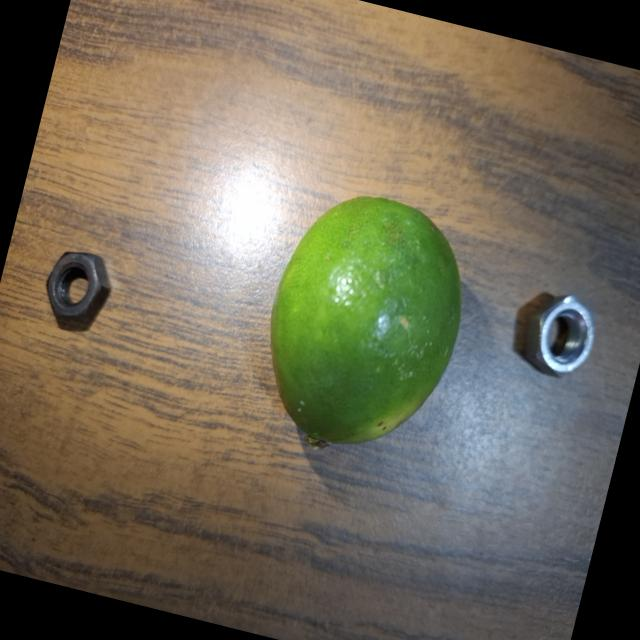limon: (240, 176, 490, 477)
milimetrico: (23, 230, 133, 345)
tuerca: (514, 274, 617, 402)
